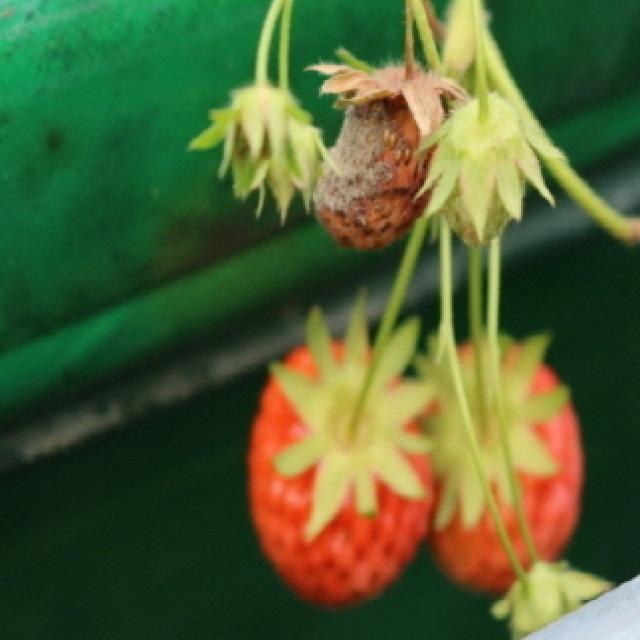Gray Mold: (301, 51, 476, 250)
